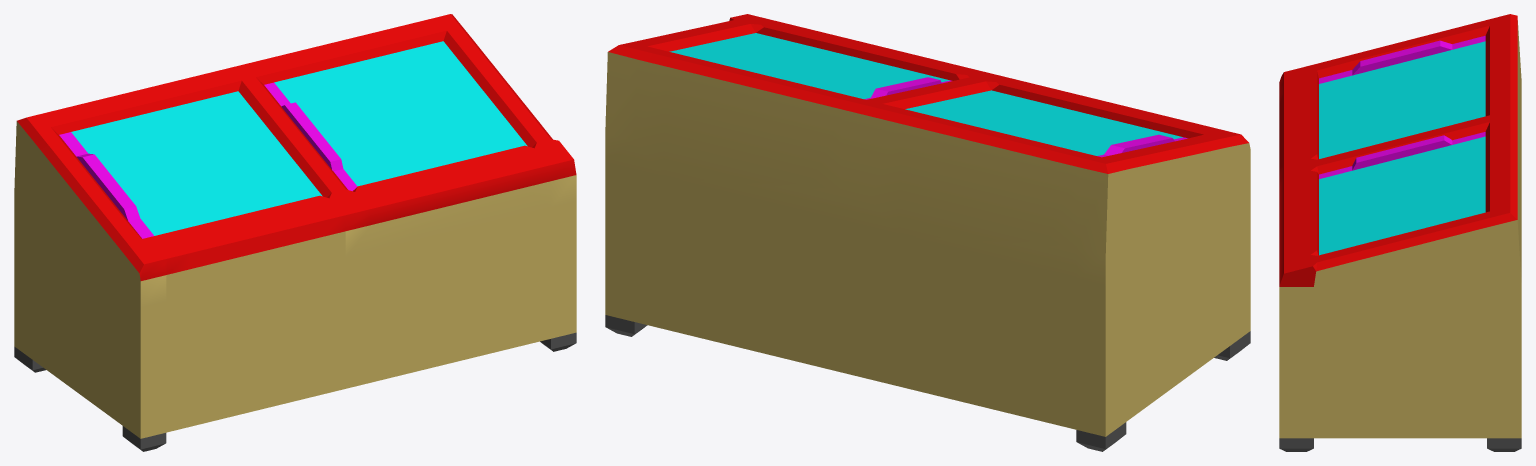
Rendered from IceCream_Freezer.fbx.
The picture shows the model from 3 angles, left to right: view 1: azimuth 30°, elevation 25°; view 2: azimuth 150°, elevation 25°; view 3: azimuth 270°, elevation 25°; orthographic projection. The views are drawn at different scales.
Visible parts, largest first — view 1: pCube4; view 2: pCube4; view 3: pCube4.
Part boxes in pixels (x1,y1,x2,y2): pCube4: (14,14,576,451); pCube4: (605,14,1250,451); pCube4: (1279,14,1521,451).
Bounding box in the file's own units: 2.89 × 1.58 × 1.45.
